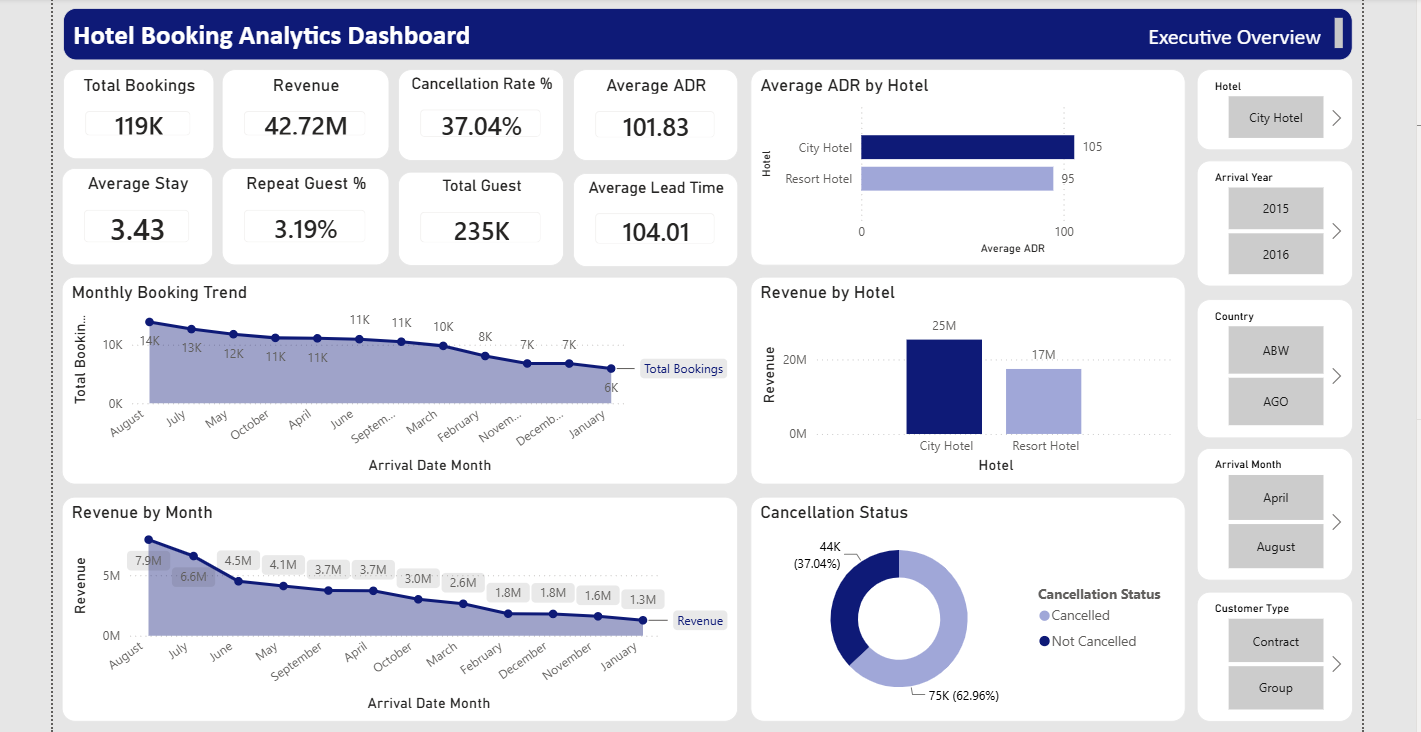

This screenshot's page, from the dashboard's own definition file:
{"tool":"powerbi","page":{"name":"Executive Overview","canvas":[1280,720],"ordinal":0},"visuals":[{"type":"cardVisual","title":"Total Bookings","fields":{"Data":["Measures (2).Total Bookings"]},"box":[9.8,69.7,148,88],"z":0},{"type":"cardVisual","title":"Revenue","fields":{"Data":["Measures (2).Revenue"]},"box":[165.1,69.7,163.9,88],"z":1000},{"type":"cardVisual","title":"Cancellation Rate %","fields":{"Data":["Measures (2).Cancellation Rate"]},"box":[337.5,69.7,162.6,89.3],"z":2000},{"type":"cardVisual","title":"Average ADR","fields":{"Data":["Measures (2).Average ADR"]},"box":[508.7,69.7,161.4,89.3],"z":3000},{"type":"cardVisual","title":"Total Guest","fields":{"Data":["Measures (2).Total Guest"]},"box":[337.5,170,162.6,91.7],"z":4000},{"type":"cardVisual","title":"Average Lead Time","fields":{"Data":["Measures (2).Average Lead Time"]},"box":[508.7,171.2,161.4,91.7],"z":5000},{"type":"lineChart","title":"Monthly Booking Trend","fields":{"Y":["Measures (2).Total Bookings"],"Category":["hotel_bookings.Arrival Date Month"]},"box":[8.6,272.7,661.6,203],"z":6000},{"type":"areaChart","title":"Revenue by Month","fields":{"Category":["hotel_bookings.Arrival Date Month"],"Y":["Measures (2).Revenue"]},"box":[8.6,487.9,661.6,220.1],"z":7000},{"type":"lineStackedColumnComboChart","fields":{"Category":["hotel_bookings.Hotel"],"Y":["Measures (2).Revenue"]},"box":[682.3,272.7,425.5,203],"z":8000},{"type":"donutChart","title":"Cancellation Status","fields":{"Category":["hotel_bookings.Cancellation Status"],"Y":["Measures (2).Total Bookings"]},"box":[682.3,487.9,425.5,220.1],"z":9000},{"type":"clusteredBarChart","fields":{"Category":["hotel_bookings.Hotel"],"Y":["Measures (2).Average ADR"]},"box":[682.3,69.7,425.5,192],"z":10000},{"type":"slicer","fields":{"Values":["hotel_bookings.Hotel"]},"box":[1118.9,69.7,152.9,79.5],"z":11000},{"type":"slicer","fields":{"Values":["hotel_bookings.Arrival Date Month"]},"box":[1118.9,440.2,152.9,129.6],"z":12000},{"type":"slicer","fields":{"Values":["hotel_bookings.Country"]},"box":[1118.9,294.7,152.9,135.7],"z":13000},{"type":"slicer","fields":{"Values":["hotel_bookings.Customer Type"]},"box":[1118.9,580.8,152.9,127.2],"z":14000},{"type":"slicer","fields":{"Values":["hotel_bookings.Arrival Date Year"]},"box":[1118.9,159,152.9,123.5],"z":15000},{"type":"textbox","box":[9.8,9.8,1262,51.4],"z":16000},{"type":"cardVisual","title":"Average Stay","fields":{"Data":["Measures (2).Average Stay"]},"box":[8.6,166.3,148,95.4],"z":17000},{"type":"cardVisual","title":"Repeat Guest %","fields":{"Data":["Measures (2).Repeat Guest %"]},"box":[165.1,166.3,163.9,95.4],"z":18000}]}

Visuals, with their boxes on the page's 1280x720 design canvas (x1, y1, x2, y2). These are canvas units, not pixel positions in the 1421x732 screenshot, which may show the page scaled, cropped or inside an application window:
"Total Bookings" cardVisual: left=10, top=70, right=158, bottom=158
"Revenue" cardVisual: left=165, top=70, right=329, bottom=158
"Cancellation Rate %" cardVisual: left=338, top=70, right=500, bottom=159
"Average ADR" cardVisual: left=509, top=70, right=670, bottom=159
"Total Guest" cardVisual: left=338, top=170, right=500, bottom=262
"Average Lead Time" cardVisual: left=509, top=171, right=670, bottom=263
"Monthly Booking Trend" lineChart: left=9, top=273, right=670, bottom=476
"Revenue by Month" areaChart: left=9, top=488, right=670, bottom=708
lineStackedColumnComboChart - hotel_bookings.Hotel x Measures (2).Revenue: left=682, top=273, right=1108, bottom=476
"Cancellation Status" donutChart: left=682, top=488, right=1108, bottom=708
clusteredBarChart - hotel_bookings.Hotel x Measures (2).Average ADR: left=682, top=70, right=1108, bottom=262
slicer - hotel_bookings.Hotel: left=1119, top=70, right=1272, bottom=149
slicer - hotel_bookings.Arrival Date Month: left=1119, top=440, right=1272, bottom=570
slicer - hotel_bookings.Country: left=1119, top=295, right=1272, bottom=430
slicer - hotel_bookings.Customer Type: left=1119, top=581, right=1272, bottom=708
slicer - hotel_bookings.Arrival Date Year: left=1119, top=159, right=1272, bottom=282
textbox: left=10, top=10, right=1272, bottom=61
"Average Stay" cardVisual: left=9, top=166, right=157, bottom=262
"Repeat Guest %" cardVisual: left=165, top=166, right=329, bottom=262
